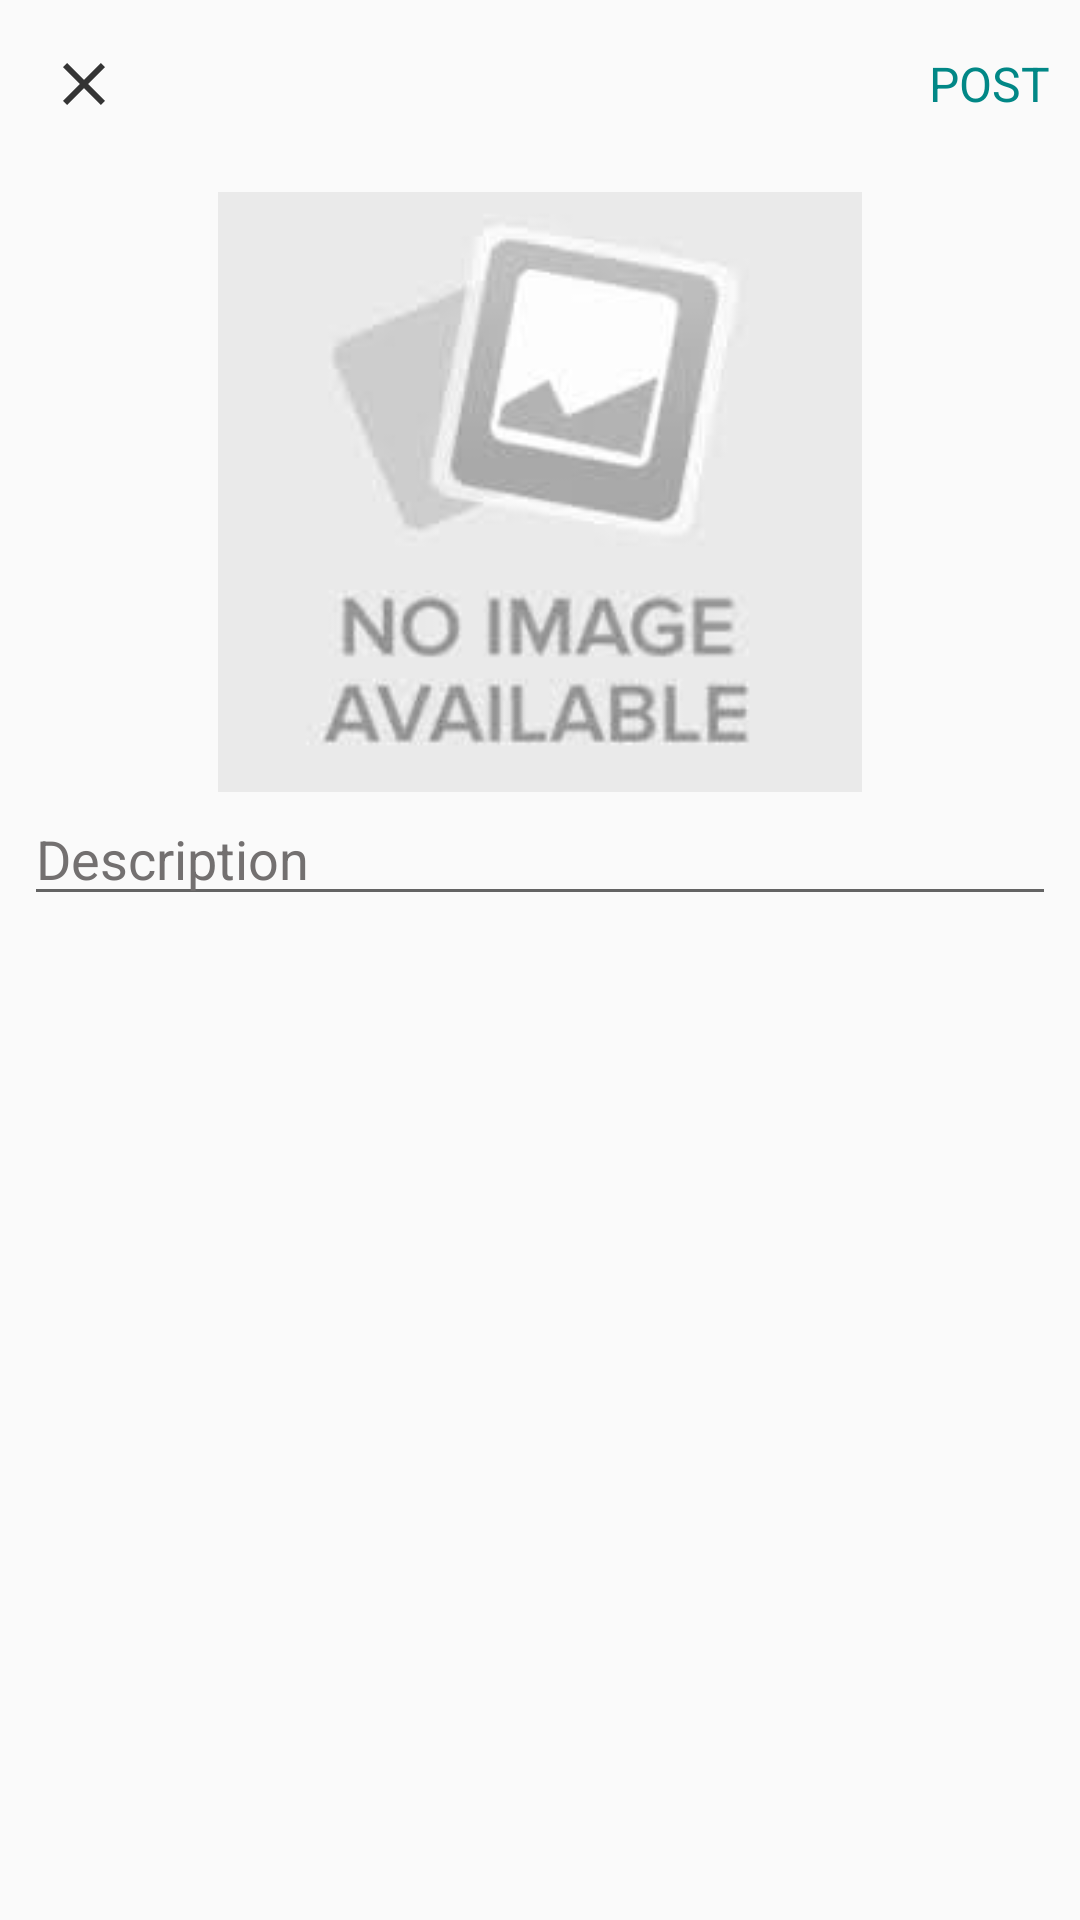

Point at icon controls on the screen. Image size 1080px x 1920px, points as (x,y).
close item: (84,84)
